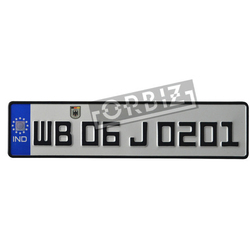inlp: (5, 98, 250, 164)
